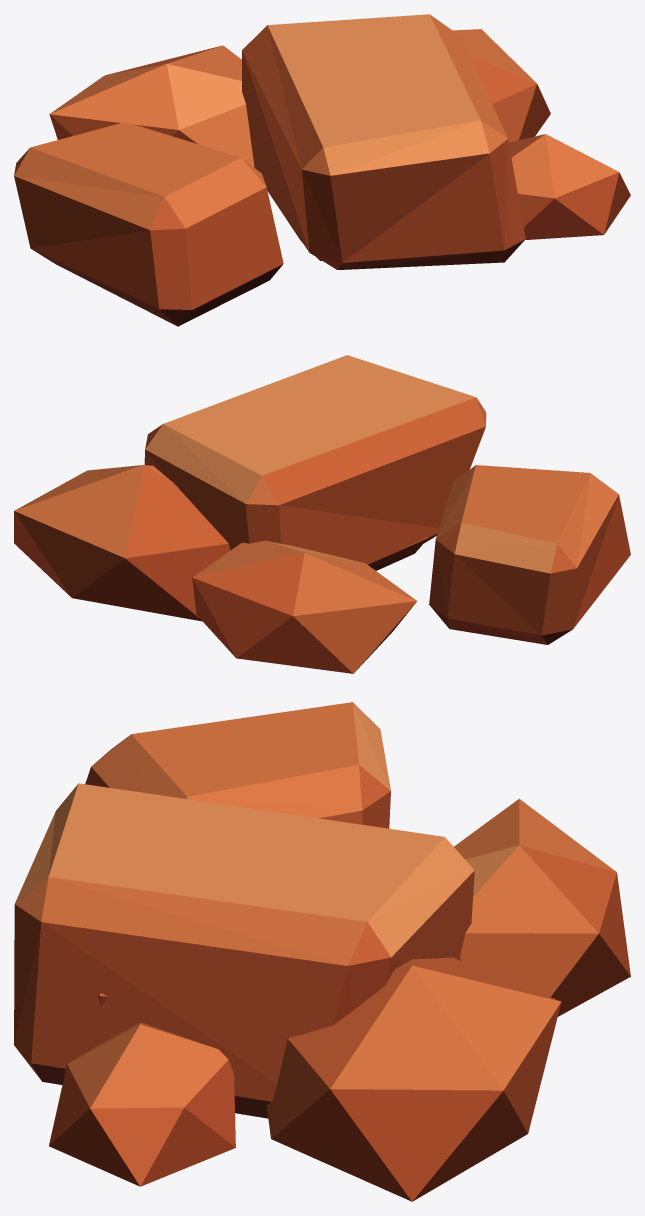
File: SM_ROCK_S_10.fbx
3 views of the same model, one above another, from view 1: azimuth 30°, elevation 25°; view 2: azimuth 150°, elevation 25°; view 3: azimuth 270°, elevation 25° (orthographic). The views are drawn at different scales.
Parts seen in each view (by area): view 1: ROCK_S_10; view 2: ROCK_S_10; view 3: ROCK_S_10.
Part boxes in pixels (x1=…): ROCK_S_10: x1=14, y1=14, x2=630, y2=326; ROCK_S_10: x1=14, y1=355, x2=630, y2=673; ROCK_S_10: x1=14, y1=702, x2=630, y2=1201.
Bounding box in the file's own units: 0.7782 × 0.5637 × 0.1928.
